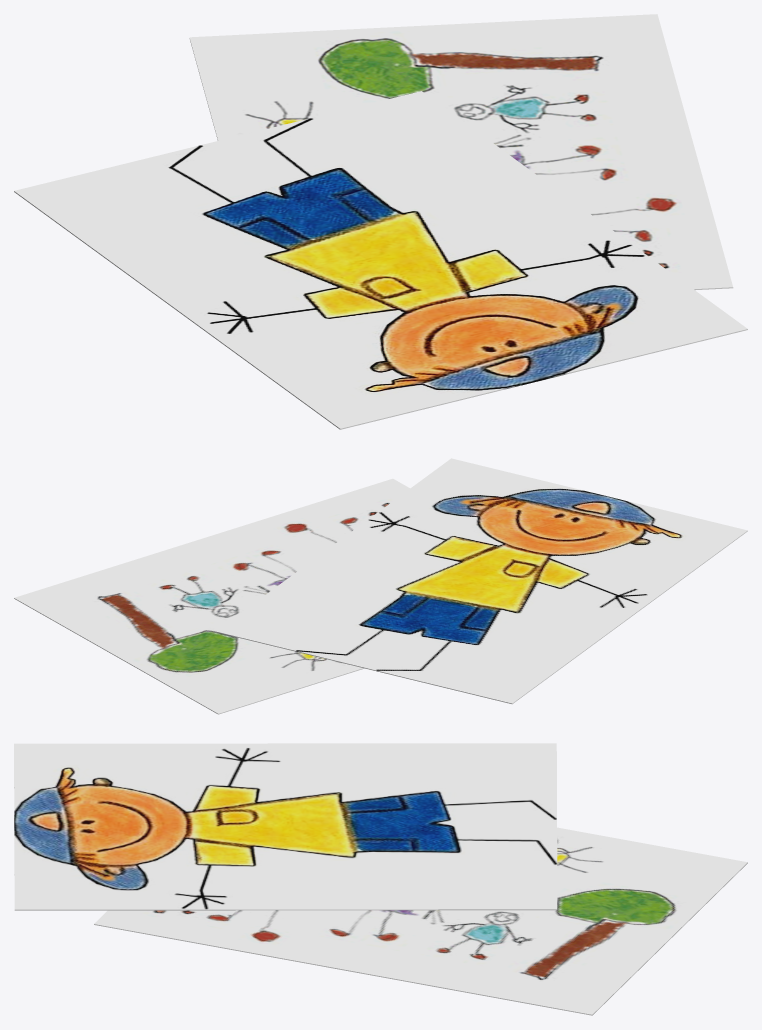
Rendered from Papers 1.FBX.
The picture shows the model from 3 angles, top to bottom: view 1: azimuth 30°, elevation 25°; view 2: azimuth 150°, elevation 25°; view 3: azimuth 270°, elevation 25°; orthographic projection. The views are drawn at different scales.
Visible parts, largest first — view 1: papers 1; view 2: papers 1; view 3: papers 1.
Boxes of the visible parts, x1,y1,x2,y2 form: papers 1: (14,14,747,429); papers 1: (14,458,747,714); papers 1: (14,743,747,1015).
Bounding box in the file's own units: 40.17 × 0.1214 × 46.04.
1 material, 1 textured.
